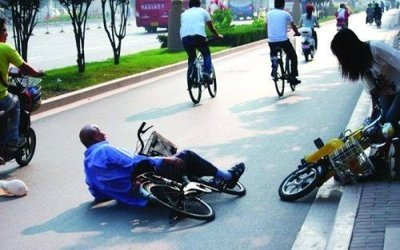fall: (66, 115, 248, 215)
